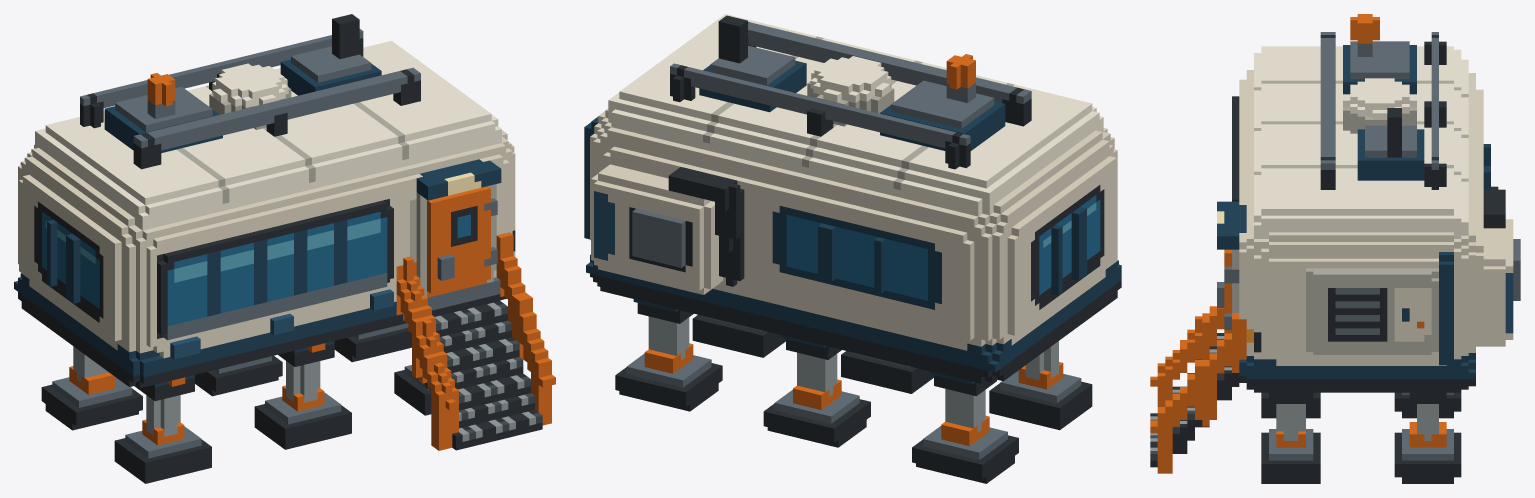
File: research_station.glb
3 views of the same model, side by side, from view 1: azimuth 30°, elevation 25°; view 2: azimuth 150°, elevation 25°; view 3: azimuth 270°, elevation 25° (orthographic). The views are drawn at different scales.
Visible parts, largest first — view 1: research_station; view 2: research_station; view 3: research_station.
Part boxes in pixels (x1,y1,x2,y2): research_station: (14, 14, 555, 483); research_station: (584, 14, 1121, 483); research_station: (1150, 14, 1520, 483).
Bounding box in the file's own units: 8.19 × 6.5 × 6.5.
